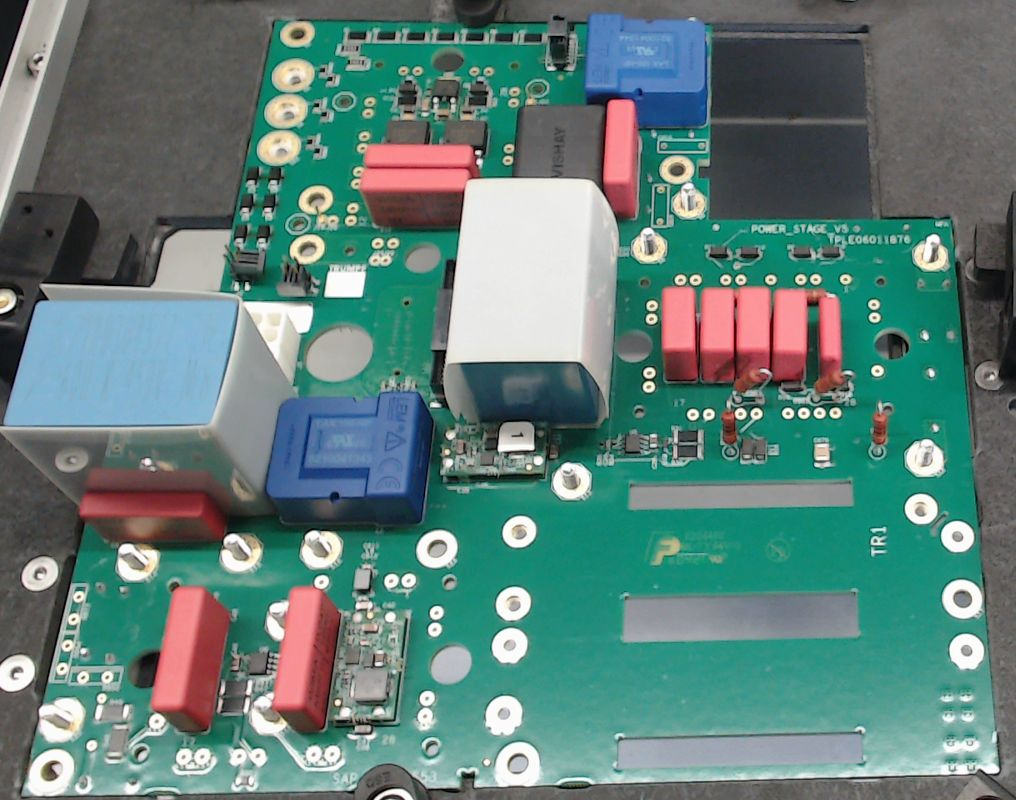comp1: (267, 390, 438, 523), (585, 14, 708, 127)
comp2: (149, 585, 232, 733), (272, 583, 339, 730), (76, 495, 227, 544), (360, 170, 471, 230), (604, 99, 638, 217), (658, 285, 699, 381), (700, 285, 737, 385), (737, 286, 772, 388), (772, 286, 807, 385), (365, 143, 476, 168), (820, 295, 842, 379)
comp3: (515, 104, 604, 181)
comp4: (1, 284, 297, 520), (442, 177, 618, 432)
